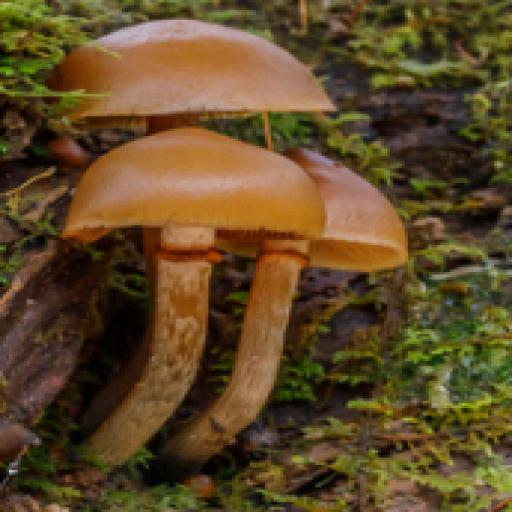mushroom: (40, 3, 424, 438)
